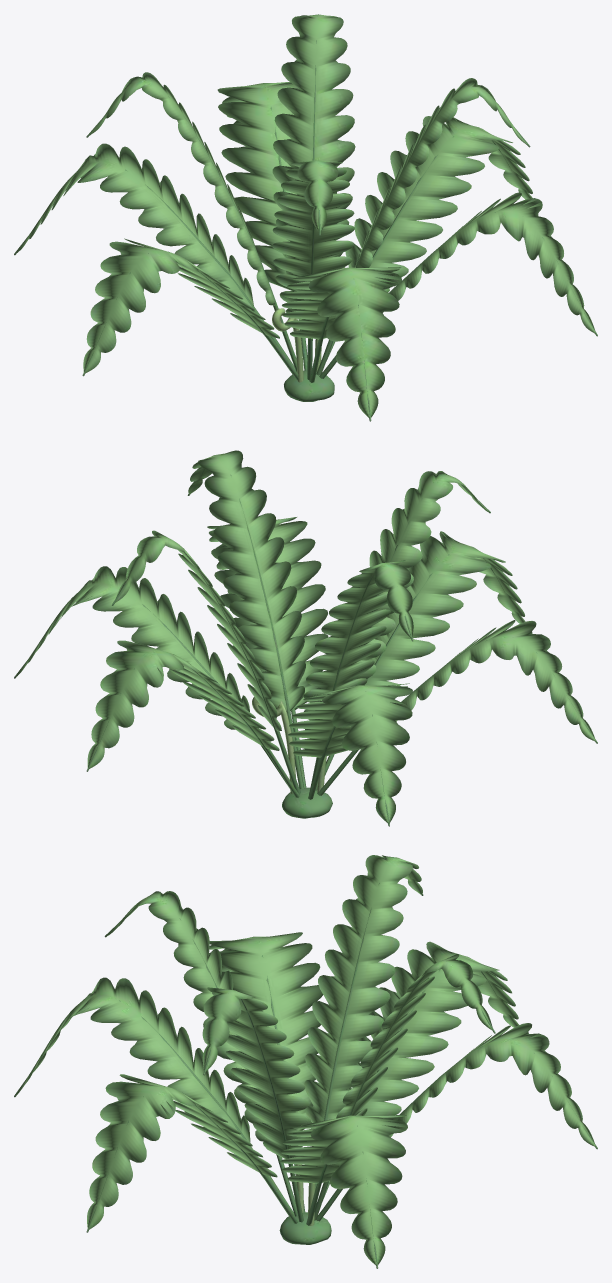
File: helecho.glb
3 renders of one model, top to bottom at view 1: azimuth 30°, elevation 25°; view 2: azimuth 150°, elevation 25°; view 3: azimuth 270°, elevation 25°, orthographic. The views are drawn at different scales.
Visible parts, largest first — view 1: fern_body; view 2: fern_body; view 3: fern_body.
Boxes of the visible parts, x1,y1,x2,y2 form: fern_body: [14, 14, 597, 421]; fern_body: [14, 450, 597, 826]; fern_body: [14, 855, 597, 1268].
Bounding box in the file's own units: 1.41 × 0.7988 × 1.33.
1 material, 1 textured.
